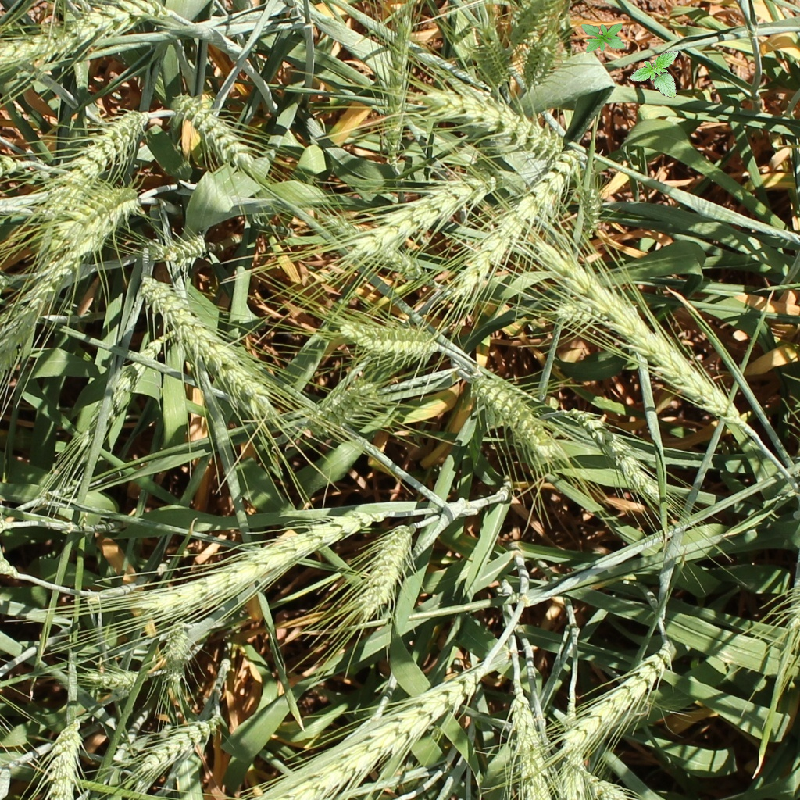spikelet: (261, 663, 483, 800), (565, 285, 753, 434), (135, 504, 369, 621), (450, 141, 590, 300), (144, 272, 280, 418), (345, 162, 500, 260), (561, 639, 677, 755), (39, 111, 153, 212), (418, 84, 566, 160), (462, 363, 566, 464), (569, 404, 666, 504), (169, 89, 259, 172), (133, 706, 225, 781), (353, 520, 418, 622), (48, 182, 144, 247), (375, 14, 415, 164), (300, 376, 386, 436), (508, 687, 554, 799), (335, 314, 443, 359), (68, 1, 169, 47), (1, 21, 78, 77), (41, 720, 86, 799), (136, 228, 212, 269), (517, 31, 565, 90), (506, 1, 558, 50), (159, 622, 202, 680), (551, 292, 607, 330), (473, 30, 510, 87), (80, 664, 140, 695), (575, 183, 604, 241)
weed: (627, 40, 700, 113), (581, 23, 625, 53)
